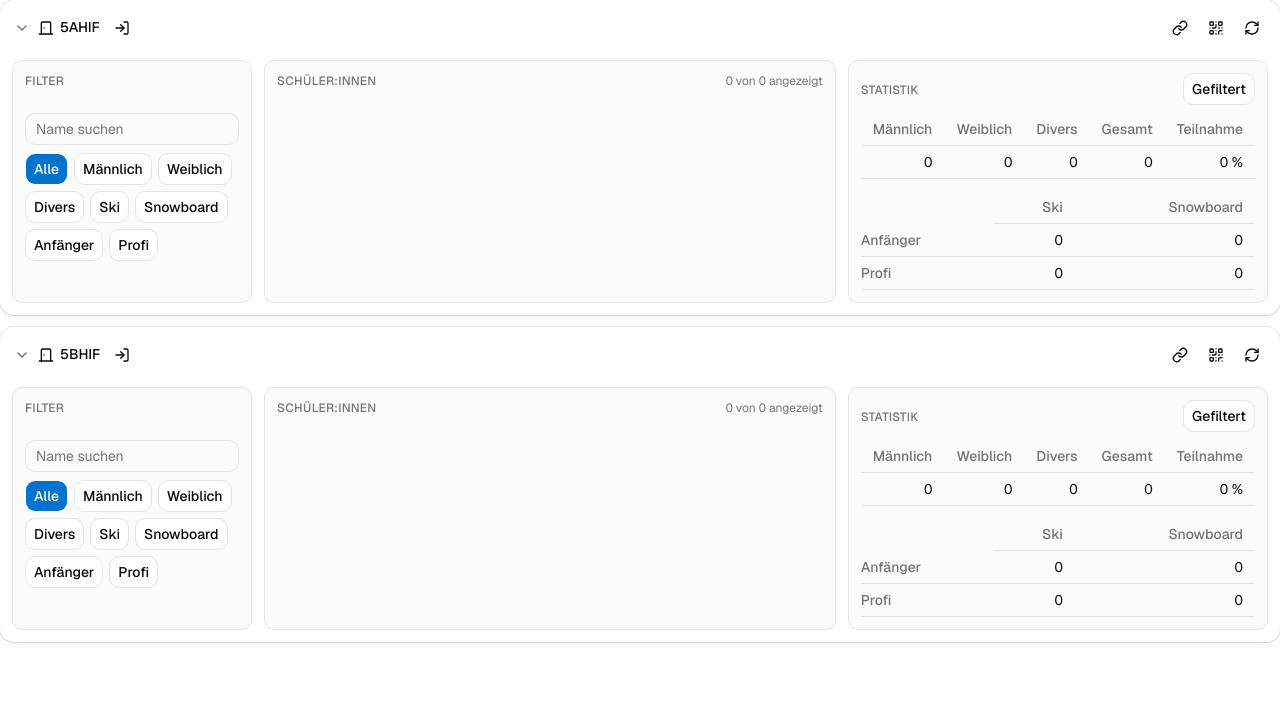
ClassCards — the open/close toggle › says what the server said when the toggle is refused
The width and height of the screenshot is (1280, 720).
Click the button named "Registrierung öffnen für 5AHIF": (122, 28) x1=106 y1=12 x2=138 y2=44
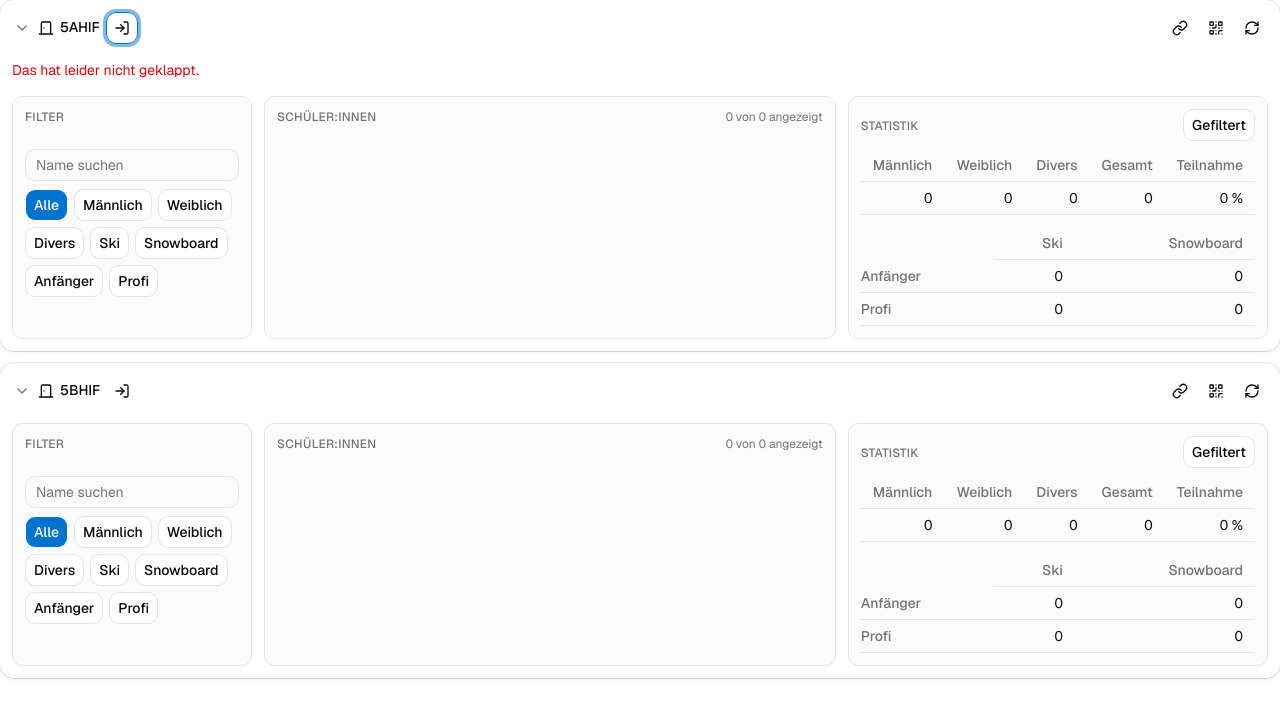
Check: the message "Das hat leider nicht geklappt." is shown, box x1=12 y1=61 x2=199 y2=79
